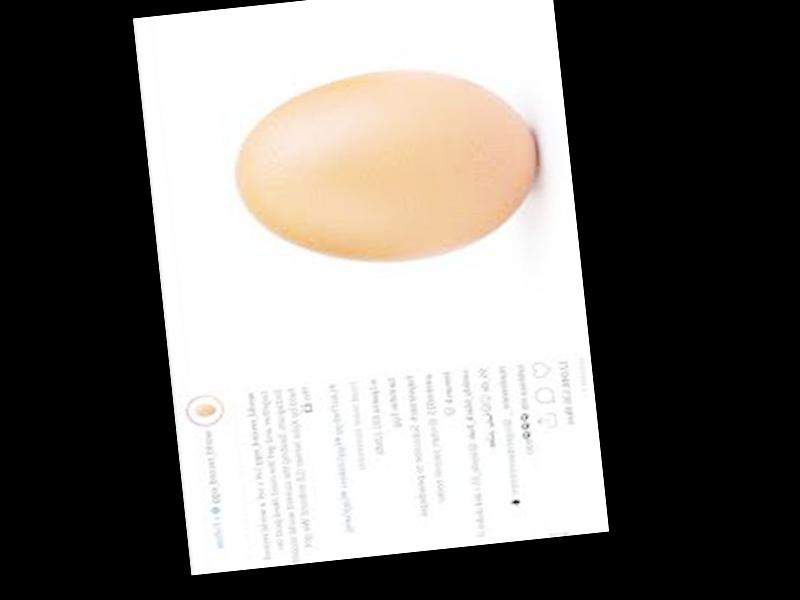Eggs: (226, 55, 543, 276)
